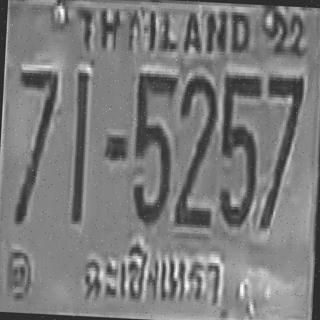N01: (69, 67, 89, 222)
N02: (174, 74, 218, 227)
N05: (130, 70, 177, 224), (216, 72, 261, 225)
N07: (11, 67, 57, 223), (260, 73, 304, 228)
P07: (71, 230, 228, 318)
